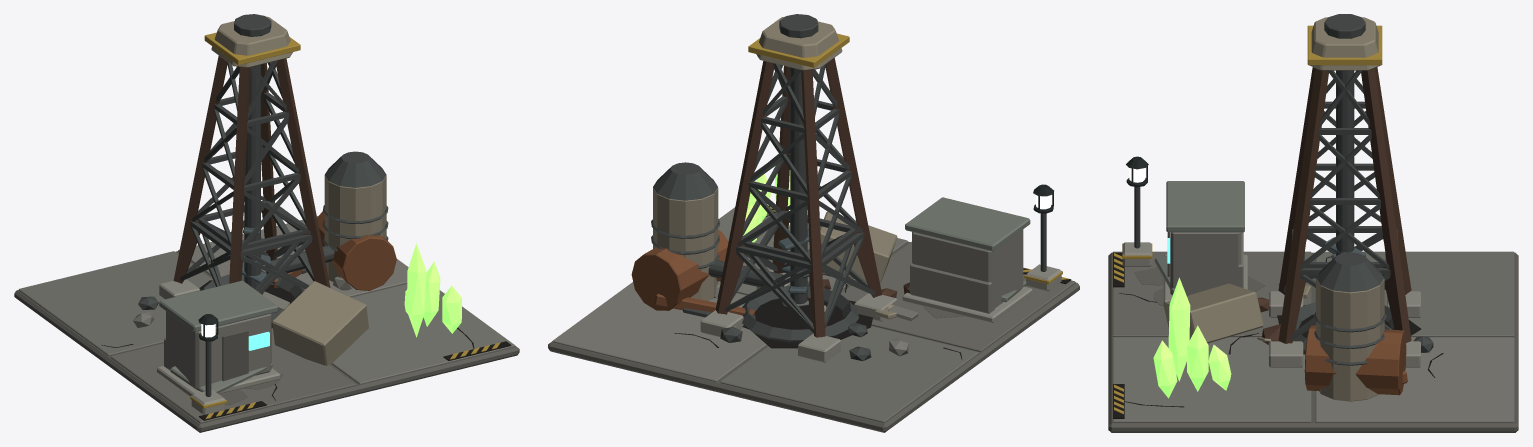
File: t_mine.glb
3 views of the same model, side by side, from view 1: azimuth 30°, elevation 25°; view 2: azimuth 150°, elevation 25°; view 3: azimuth 270°, elevation 25° (orthographic). The views are drawn at different scales.
Visible parts, largest first — view 1: Site foundation, Intact structure, Ruined structure, Extraction auger; view 2: Site foundation, Intact structure, Ruined structure, Extraction auger; view 3: Site foundation, Intact structure, Ruined structure, Extraction auger.
Part boxes in pixels (x1=…): Site foundation: x1=14, y1=216, x2=519, y2=432; Intact structure: x1=159, y1=14, x2=388, y2=388; Ruined structure: x1=133, y1=200, x2=396, y2=393; Extraction auger: x1=242, y1=64, x2=271, y2=288; Site foundation: x1=548, y1=166, x2=1079, y2=432; Intact structure: x1=651, y1=14, x2=1030, y2=337; Ruined structure: x1=631, y1=210, x2=1026, y2=360; Extraction auger: x1=778, y1=67, x2=809, y2=304; Site foundation: x1=1108, y1=156, x2=1518, y2=432; Intact structure: x1=1166, y1=14, x2=1411, y2=401; Ruined structure: x1=1154, y1=226, x2=1433, y2=395; Extraction auger: x1=1324, y1=70, x2=1365, y2=259.
Size of the model in its own units: 7.8 by 6.83 by 7.8.
